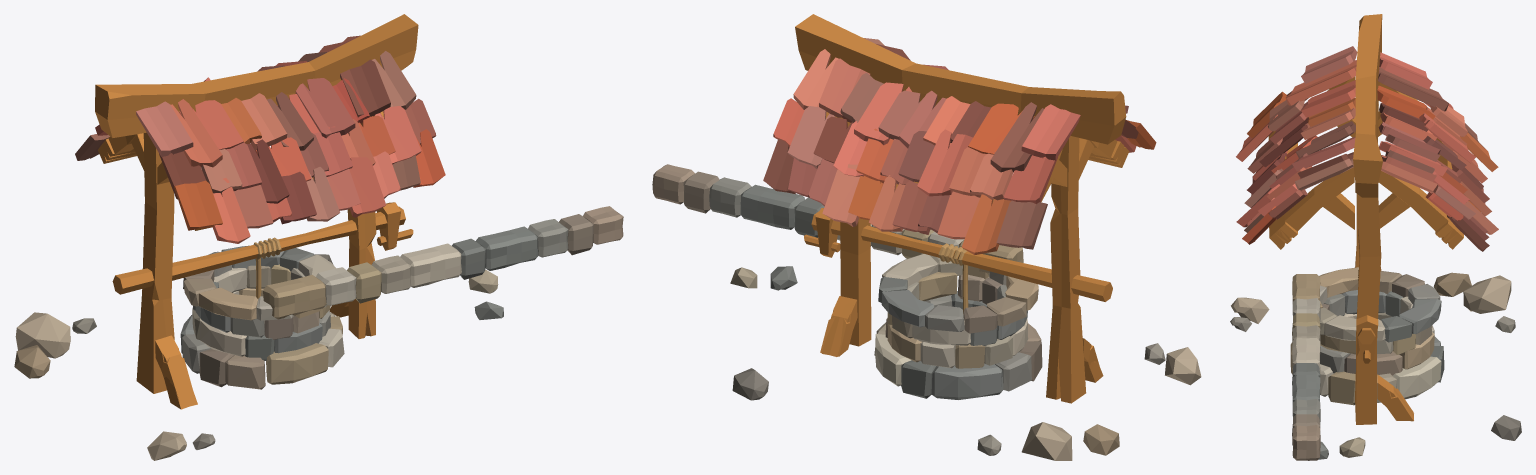
File: well.fbx
3 renders of one model, left to right at view 1: azimuth 30°, elevation 25°; view 2: azimuth 150°, elevation 25°; view 3: azimuth 270°, elevation 25°, orthographic. The views are drawn at different scales.
Parts seen in each view (by area): view 1: Cube.021, Cube.005, Cube, Cube.003, Cube.002, Cylinder, Cube.001, Cube.004, Cube.122, Cube.010, Cube.016, Cube.115 (+40 smaller); view 2: Cube.021, Cube.005, Cube.003, Cube, Cube.002, Cube.001, Cylinder, Cube.004, Cube.016, Cube.072, Cube.082, Cube.039 (+42 smaller); view 3: Cube.003, Cube.021, Cube.004, Cube, Cube.002, Cube.001, Cube.007, Icosphere, Cube.023, Cube.116, Cube.083, Cube.019 (+63 smaller).
Part boxes in pixels (x1=…): Cube.021: x1=95, y1=14, x2=418, y2=137; Cube.005: x1=136, y1=132, x2=174, y2=393; Cube: x1=180, y1=312, x2=344, y2=389; Cube.003: x1=183, y1=245, x2=335, y2=320; Cube.002: x1=193, y1=264, x2=330, y2=339; Cylinder: x1=112, y1=206, x2=405, y2=294; Cube.001: x1=192, y1=288, x2=330, y2=360; Cube.004: x1=347, y1=209, x2=376, y2=338; Cube.122: x1=295, y1=78, x2=355, y2=138; Cube.010: x1=263, y1=275, x2=326, y2=319; Cube.016: x1=476, y1=226, x2=538, y2=270; Cube.115: x1=136, y1=101, x2=193, y2=156; Cube.021: x1=795, y1=14, x2=1126, y2=144; Cube.005: x1=1046, y1=136, x2=1086, y2=403; Cube.003: x1=878, y1=254, x2=1038, y2=333; Cube: x1=874, y1=322, x2=1042, y2=399; Cube.002: x1=887, y1=272, x2=1027, y2=345; Cube.001: x1=885, y1=291, x2=1028, y2=368; Cylinder: x1=811, y1=211, x2=1112, y2=301; Cube.004: x1=840, y1=218, x2=871, y2=346; Cube.016: x1=740, y1=184, x2=804, y2=229; Cube.072: x1=917, y1=129, x2=972, y2=196; Cube.082: x1=1021, y1=104, x2=1080, y2=160; Cube.039: x1=962, y1=194, x2=1011, y2=254; Cube.003: x1=1319, y1=267, x2=1441, y2=342; Cube.021: x1=1353, y1=14, x2=1382, y2=197; Cube.004: x1=1355, y1=194, x2=1381, y2=424; Cube: x1=1290, y1=336, x2=1444, y2=405; Cube.002: x1=1320, y1=290, x2=1432, y2=354; Cube.001: x1=1320, y1=312, x2=1434, y2=375; Cube.007: x1=1284, y1=167, x2=1354, y2=231; Icosphere: x1=1463, y1=275, x2=1511, y2=313; Cube.023: x1=1378, y1=171, x2=1448, y2=231; Cube.116: x1=1285, y1=60, x2=1356, y2=105; Cube.083: x1=1378, y1=67, x2=1448, y2=111; Cube.019: x1=1292, y1=425, x2=1320, y2=460.
Size of what is drawn, in the model's own units: 763 by 454 by 392.
